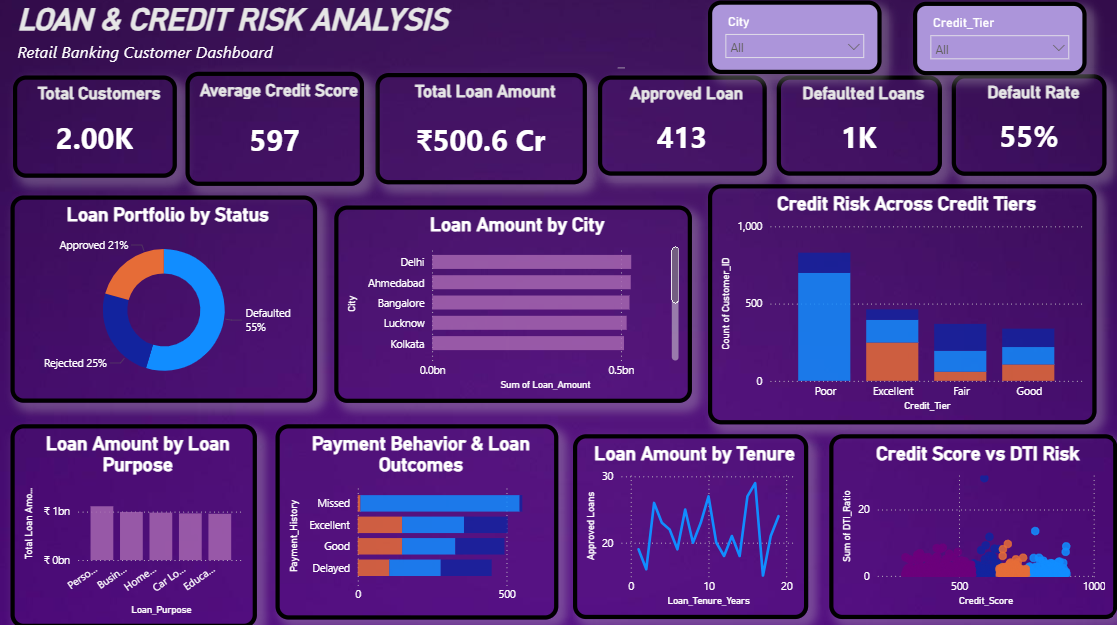

The page's visual inventory and layout, read from the dashboard file:
{"tool":"powerbi","page":{"name":"Page 1","canvas":[1280,720],"ordinal":0},"visuals":[{"type":"cardVisual","title":"Total Customers","fields":{"Data":["cleaned_bank_loan_risk_analysis (1).Total Customers"]},"box":[17.1,88.6,187.1,117.1],"z":0},{"type":"textbox","title":"LOAN & CREDIT RISK ANALYSIS    ","box":[17.1,4.3,704.3,80],"z":1},{"type":"cardVisual","title":"Total Loan Amount","fields":{"Data":["cleaned_bank_loan_risk_analysis (1).Total Loan Amount Display"]},"box":[431.4,85.7,241.4,127.1],"z":7},{"type":"cardVisual","title":"Average Credit Score","fields":{"Data":["cleaned_bank_loan_risk_analysis (1).Average Credit Score"]},"box":[214.3,84.3,204.3,130],"z":8},{"type":"cardVisual","title":"Approved Loan","fields":{"Data":["cleaned_bank_loan_risk_analysis (1).Approved Loans"]},"box":[685.7,88.6,192.9,114.3],"z":9},{"type":"cardVisual","title":"Defaulted Loans","fields":{"Data":["cleaned_bank_loan_risk_analysis (1).Defaulted Loans"]},"box":[890,88.6,188.6,114.3],"z":10},{"type":"cardVisual","title":"Default Rate","fields":{"Data":["cleaned_bank_loan_risk_analysis (1).Default Rate"]},"box":[1090,87.1,177.1,115.7],"z":12},{"type":"clusteredColumnChart","title":"Loan Amount by Loan Purpose","fields":{"Category":["cleaned_bank_loan_risk_analysis (1).Loan_Purpose"],"Y":["cleaned_bank_loan_risk_analysis (1).Total Loan Amount"]},"box":[14.3,487.1,281.4,232.9],"z":14},{"type":"columnChart","title":"Credit Risk Across Credit Tiers","fields":{"Category":["cleaned_bank_loan_risk_analysis (1).Credit_Tier"],"Y":["CountNonNull(cleaned_bank_loan_risk_analysis (1).Customer_ID)"],"Series":["cleaned_bank_loan_risk_analysis (1).Loan_Status"]},"box":[811.4,212.9,444.3,274.3],"z":15},{"type":"barChart","title":"Payment Behavior & Loan Outcomes","fields":{"Category":["cleaned_bank_loan_risk_analysis (1).Payment_History"],"Y":["CountNonNull(cleaned_bank_loan_risk_analysis (1).Customer_ID)"],"Series":["cleaned_bank_loan_risk_analysis (1).Loan_Status"]},"box":[317.1,487.1,322.9,222.9],"z":16},{"type":"barChart","title":"Loan Amount by City","fields":{"Category":["cleaned_bank_loan_risk_analysis (1).City"],"Y":["Sum(cleaned_bank_loan_risk_analysis (1).Loan_Amount)"]},"box":[384.3,237.1,408.6,225.7],"z":17},{"type":"scatterChart","title":"Credit Score vs DTI Risk","fields":{"Series":["cleaned_bank_loan_risk_analysis (1).Credit_Tier"],"X":["cleaned_bank_loan_risk_analysis (1).Credit_Score"],"Y":["Sum(cleaned_bank_loan_risk_analysis (1).DTI_Ratio)"]},"box":[950,498.6,330,211.4],"z":18},{"type":"lineChart","title":"Loan Amount by Tenure","fields":{"Category":["cleaned_bank_loan_risk_analysis (1).Loan_Tenure_Years"],"Y":["cleaned_bank_loan_risk_analysis (1).Approved Loans"]},"box":[657.1,498.6,268.6,211.4],"z":19},{"type":"donutChart","title":"Loan Portfolio by Status","fields":{"Category":["cleaned_bank_loan_risk_analysis (1).Loan_Status"],"Y":["CountNonNull(cleaned_bank_loan_risk_analysis (1).Customer_ID)"]},"box":[14.3,225.7,350,237.1],"z":20},{"type":"slicer","fields":{"Values":["cleaned_bank_loan_risk_analysis (1).City"]},"box":[811.4,2.9,198.6,84.3],"z":21},{"type":"slicer","fields":{"Values":["cleaned_bank_loan_risk_analysis (1).Credit_Tier"]},"box":[1045.7,4.3,198.6,84.3],"z":22}]}

Visuals, with their boxes in screenshot pixels (x1, y1, x2, y2), scaled from the page's 1280x720 canvas onto the 1117x625 screenshot:
"Total Customers" cardVisual: 15,77,178,179
"LOAN & CREDIT RISK ANALYSIS    " textbox: 15,4,630,73
"Total Loan Amount" cardVisual: 376,74,587,185
"Average Credit Score" cardVisual: 187,73,365,186
"Approved Loan" cardVisual: 598,77,767,176
"Defaulted Loans" cardVisual: 777,77,941,176
"Default Rate" cardVisual: 951,76,1106,176
"Loan Amount by Loan Purpose" clusteredColumnChart: 12,423,258,624
"Credit Risk Across Credit Tiers" columnChart: 708,185,1096,423
"Payment Behavior & Loan Outcomes" barChart: 277,423,558,616
"Loan Amount by City" barChart: 335,206,692,402
"Credit Score vs DTI Risk" scatterChart: 829,433,1116,616
"Loan Amount by Tenure" lineChart: 573,433,808,616
"Loan Portfolio by Status" donutChart: 12,196,318,402
slicer - cleaned_bank_loan_risk_analysis (1).City: 708,3,881,76
slicer - cleaned_bank_loan_risk_analysis (1).Credit_Tier: 913,4,1086,77
